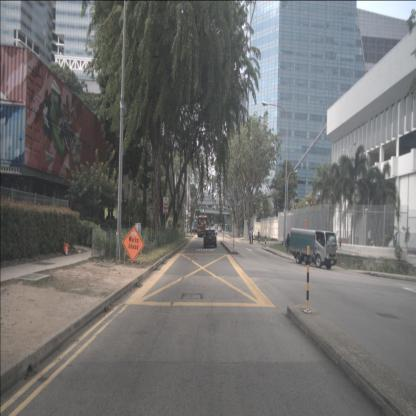cone: (62, 242, 70, 256)
